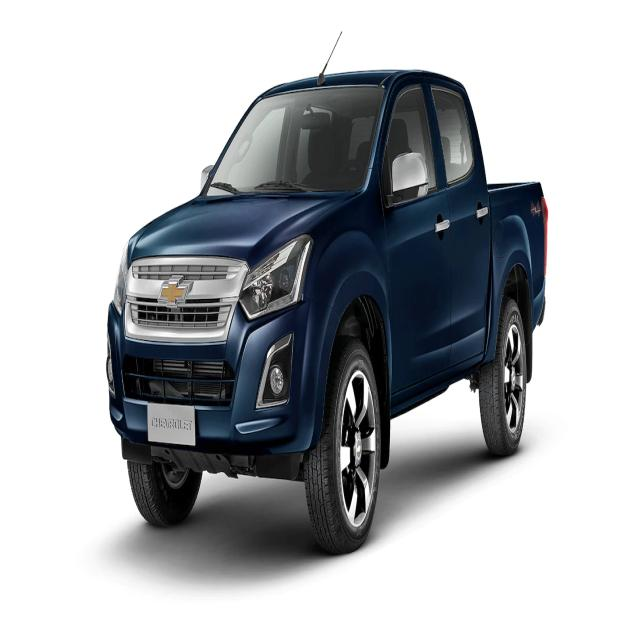CMT: (106, 69, 552, 563)
